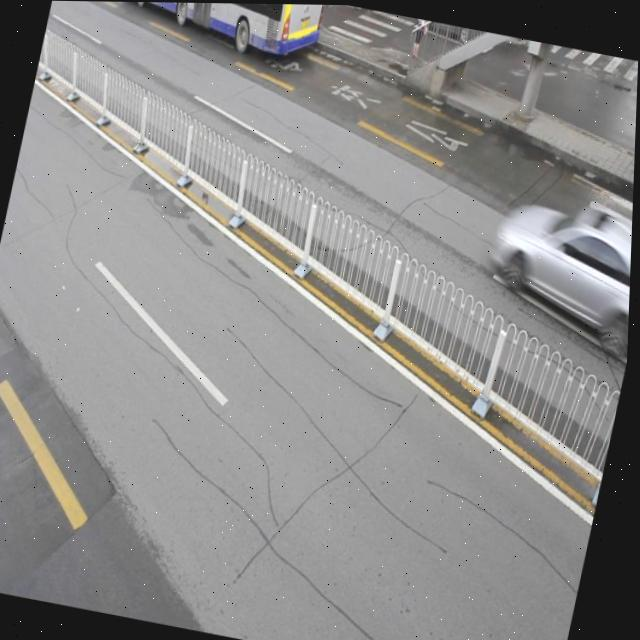car: (480, 188, 635, 344)
van: (109, 1, 325, 69)
